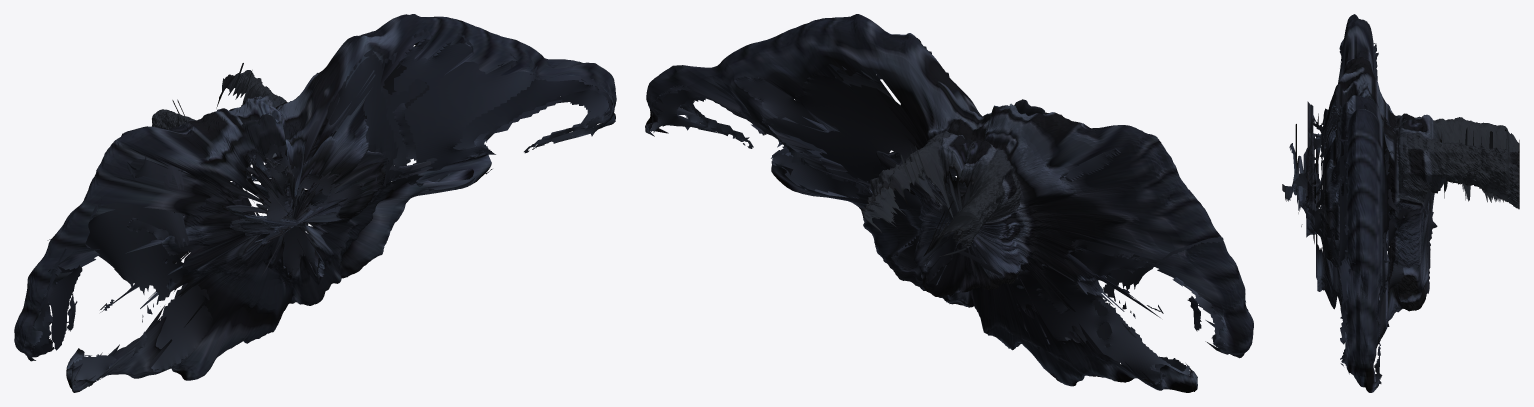
Rendered from guess_mesh.glb.
3 views of the same model, side by side, from view 1: azimuth 30°, elevation 25°; view 2: azimuth 150°, elevation 25°; view 3: azimuth 270°, elevation 25° (orthographic). The views are drawn at different scales.
Visible parts, largest first — view 1: ipn, fill; view 2: ipn, fill; view 3: ipn, fill.
Boxes of the visible parts, left/top/right/bottom form: ipn: left=14, top=14, right=616, bottom=392; fill: left=30, top=28, right=612, bottom=386; ipn: left=645, top=14, right=1253, bottom=392; fill: left=646, top=37, right=1245, bottom=384; ipn: left=1282, top=14, right=1519, bottom=392; fill: left=1293, top=39, right=1437, bottom=384.
Bounding box in the file's own units: 1.62 × 0.8106 × 0.5196.
2 materials, 1 textured.
